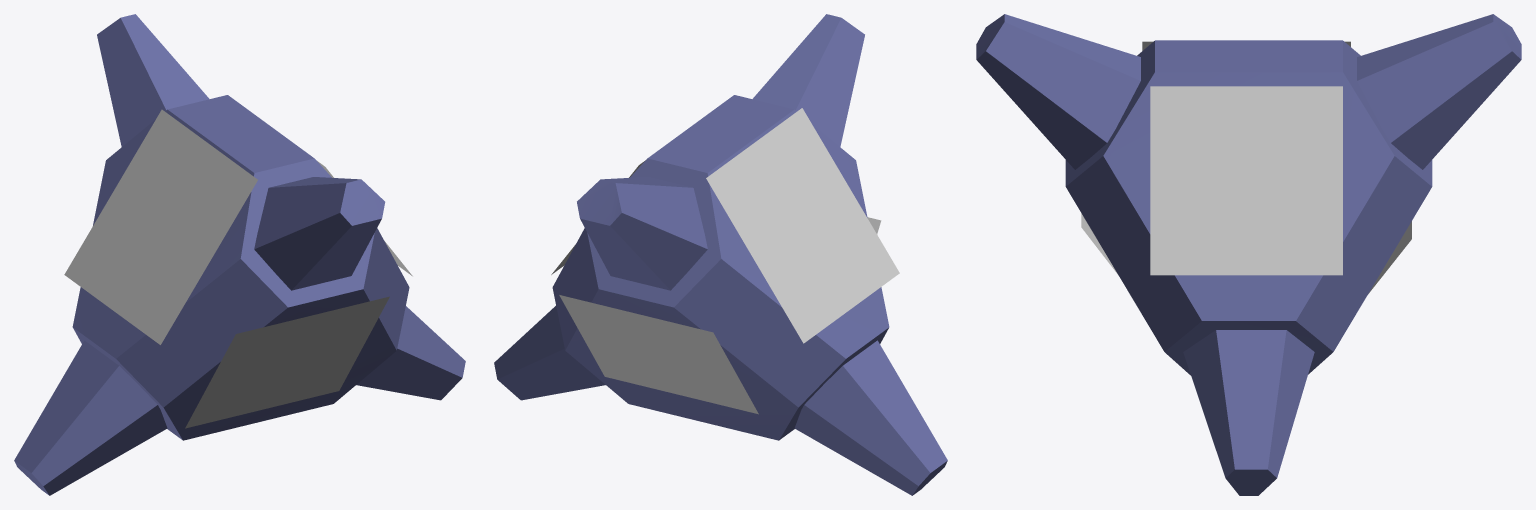
File: Recruiter.obj
3 renders of one model, left to right at view 1: azimuth 30°, elevation 25°; view 2: azimuth 150°, elevation 25°; view 3: azimuth 270°, elevation 25°, orthographic. The views are drawn at different scales.
Visible parts, largest first — view 1: Recruiter_recruiter; view 2: Recruiter_recruiter; view 3: Recruiter_recruiter.
Part boxes in pixels (x1,y1,x2,y2): Recruiter_recruiter: (14,14,465,495); Recruiter_recruiter: (494,14,947,495); Recruiter_recruiter: (976,14,1521,495).
Size of the model in its own units: 0.8274 by 0.6277 by 0.8274.
